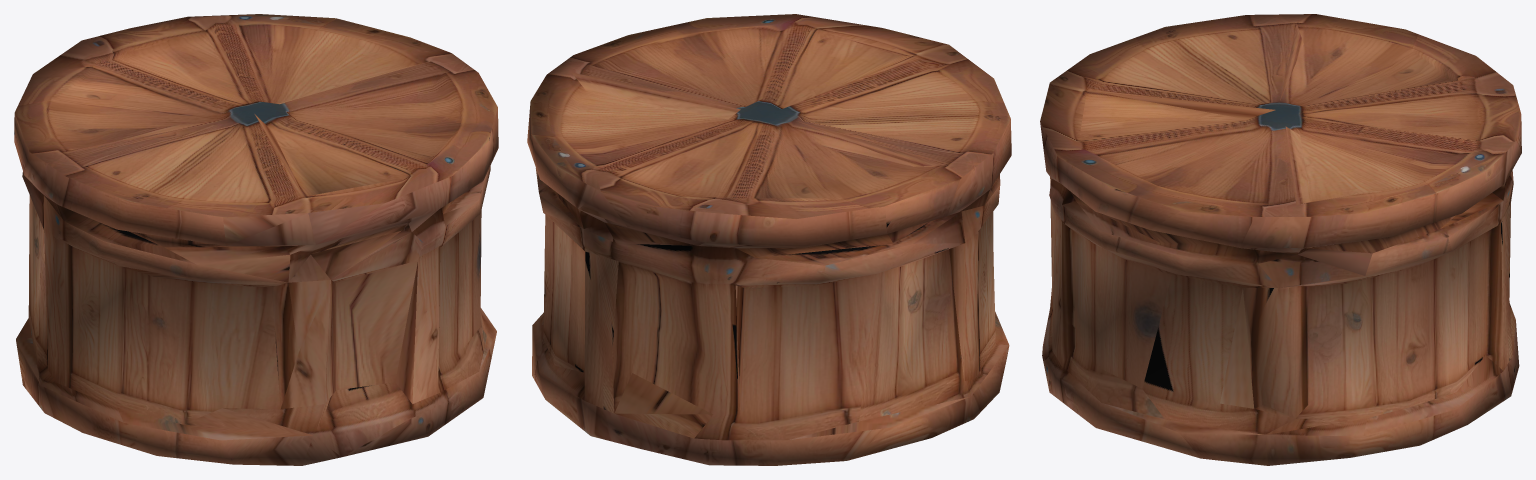
File: Storage Box 2.fbx
3 renders of one model, left to right at view 1: azimuth 30°, elevation 25°; view 2: azimuth 150°, elevation 25°; view 3: azimuth 270°, elevation 25°, orthographic.
Parts seen in each view (by area): view 1: Storage Box 2; view 2: Storage Box 2; view 3: Storage Box 2.
Part boxes in pixels (x1,y1,x2,y2): Storage Box 2: [14, 14, 498, 465]; Storage Box 2: [527, 14, 1011, 465]; Storage Box 2: [1040, 14, 1521, 465].
Bounding box in the file's own units: 94.58 × 63.03 × 94.6.
1 material, 1 textured.
